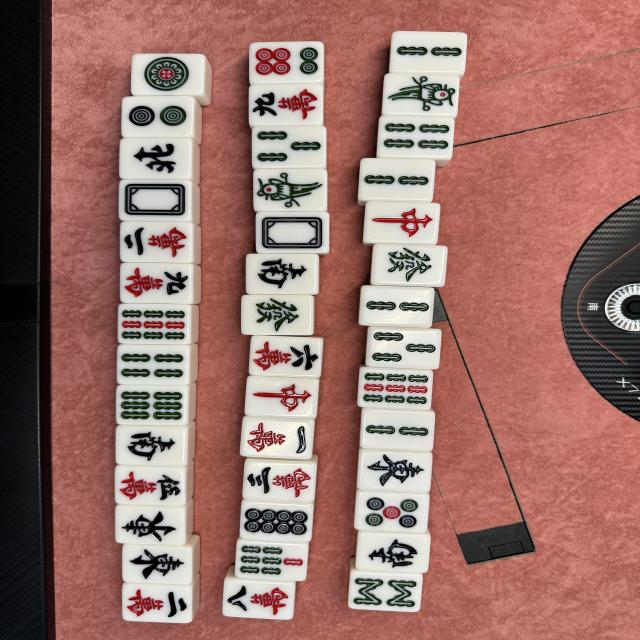sd1: (378, 115, 454, 158), (358, 158, 434, 201), (365, 326, 441, 369), (389, 31, 467, 72), (382, 73, 458, 115), (371, 244, 447, 286), (357, 451, 433, 493), (355, 531, 431, 573), (240, 416, 314, 459), (358, 367, 432, 410), (363, 202, 440, 243), (359, 286, 434, 328), (360, 409, 435, 451), (249, 336, 322, 378), (256, 211, 329, 253), (249, 83, 322, 125), (347, 572, 423, 612), (222, 579, 296, 620), (244, 377, 318, 418), (249, 41, 323, 82), (117, 344, 189, 386), (242, 462, 317, 502), (354, 492, 429, 532), (131, 54, 204, 95), (121, 96, 194, 137), (245, 253, 318, 294), (253, 169, 326, 210), (252, 126, 325, 167), (234, 541, 308, 581), (118, 180, 190, 221), (120, 222, 192, 263), (120, 263, 192, 304), (118, 304, 190, 344), (114, 505, 186, 545), (120, 138, 190, 179), (116, 425, 186, 466), (241, 295, 314, 334), (239, 503, 313, 541), (115, 466, 185, 506), (116, 386, 187, 425), (122, 545, 192, 584), (122, 584, 192, 623)
